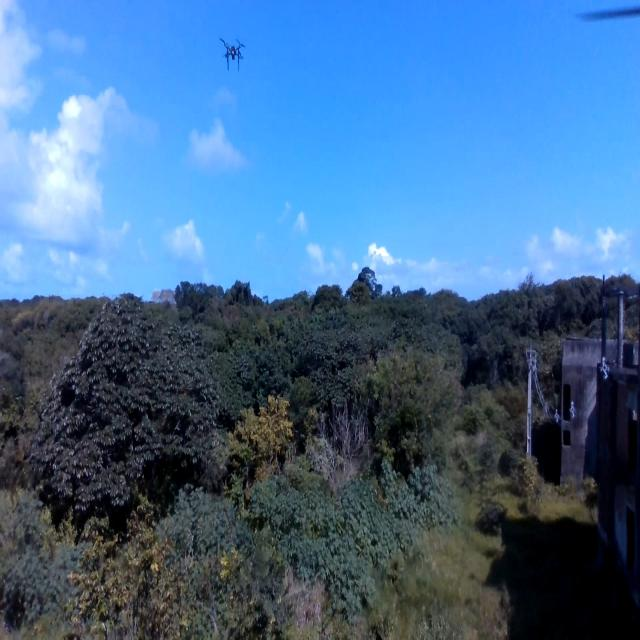-uav-: (219, 32, 253, 89)
